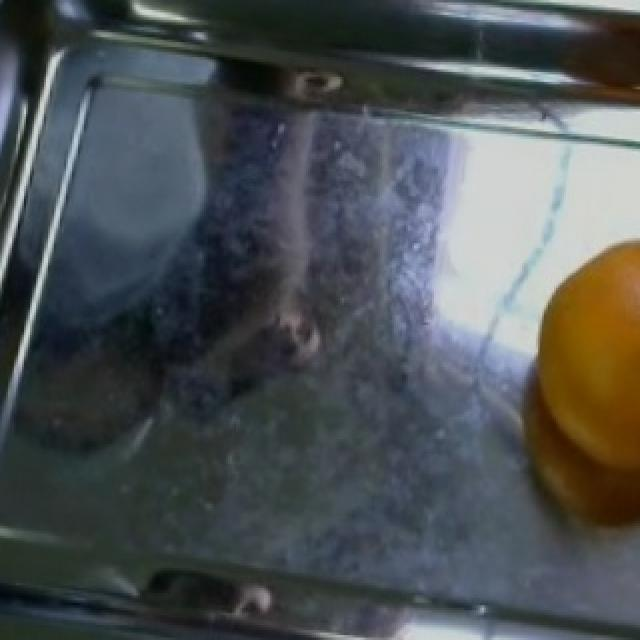Fruit: (514, 238, 640, 563)
